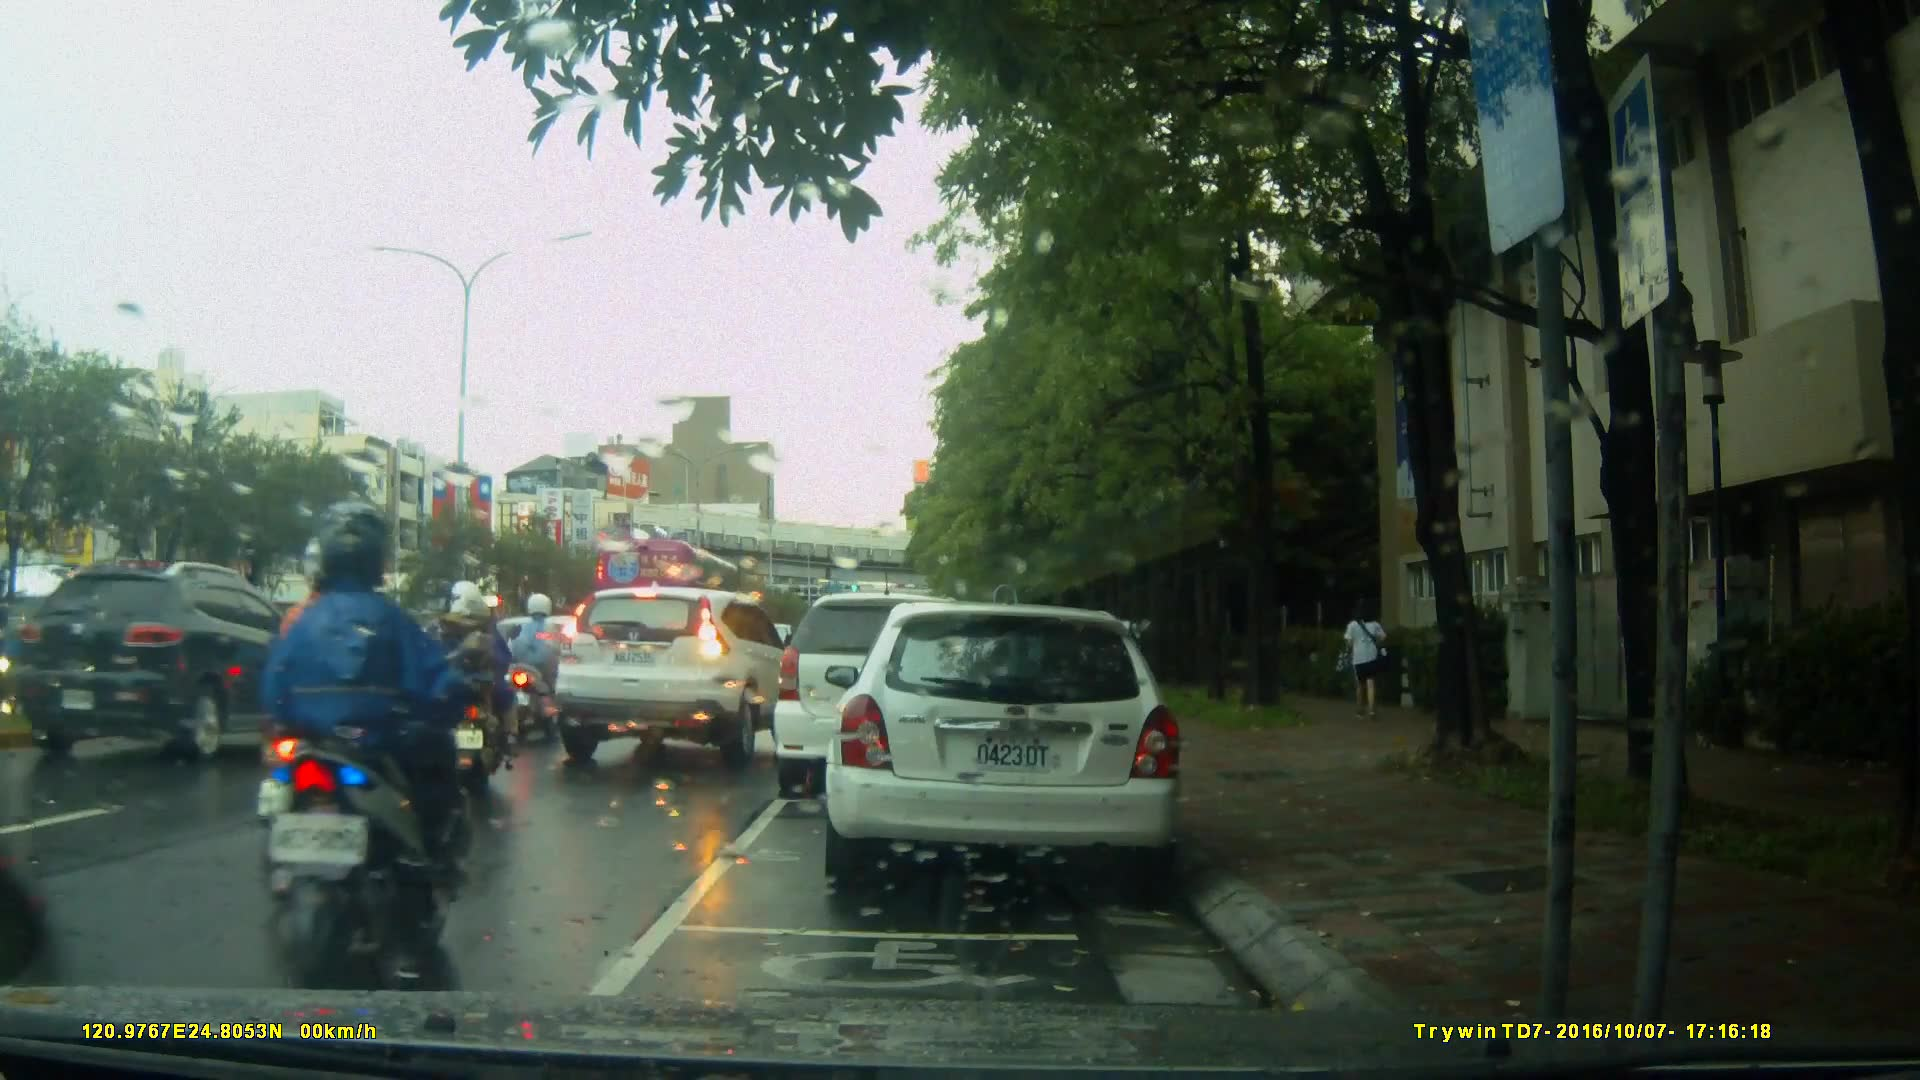pedestrian: (1331, 589, 1393, 736)
rider: (279, 507, 471, 963), (261, 523, 411, 901), (427, 585, 520, 792), (493, 594, 566, 757)
vehicle: (835, 594, 1194, 898), (2, 557, 333, 766), (539, 584, 817, 774), (776, 590, 1026, 784), (592, 536, 744, 635)
